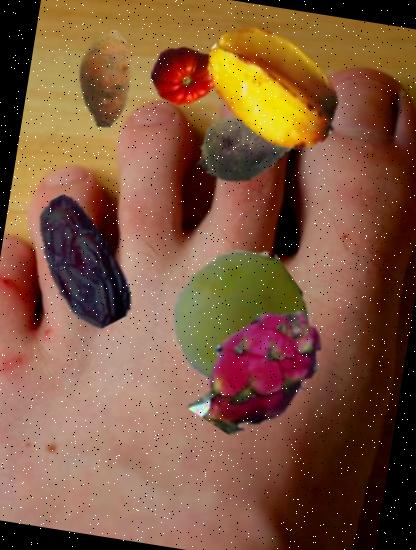Beetroot: (180, 74, 326, 219)
Carambula: (190, 3, 358, 170)
Dates: (3, 184, 160, 341)
Grape: (160, 242, 317, 400)
Pitahaya: (176, 287, 340, 450)
Potato: (49, 24, 162, 136)
Tomato: (146, 36, 227, 117)
